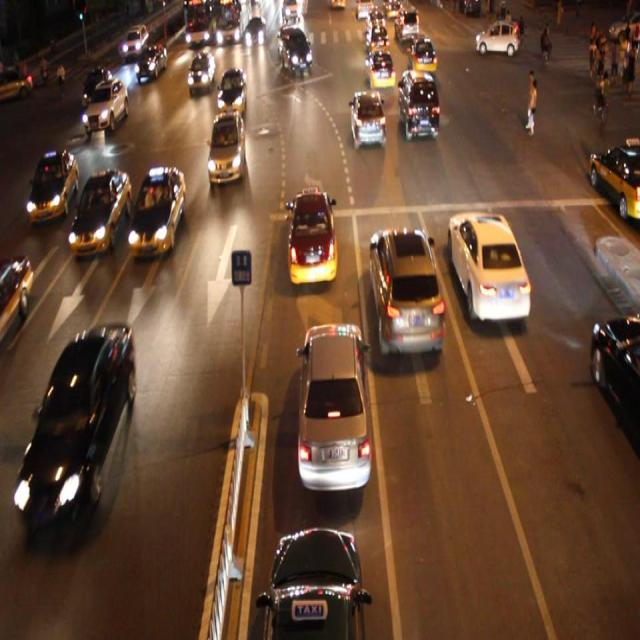car: (28, 325, 133, 530), (297, 320, 370, 491), (264, 526, 364, 640), (369, 226, 444, 354), (448, 211, 530, 322), (588, 312, 640, 436), (286, 188, 338, 284), (74, 168, 130, 255), (132, 166, 183, 258), (584, 140, 640, 218), (28, 150, 78, 219), (1, 253, 33, 346), (397, 67, 438, 139), (208, 112, 245, 183), (348, 88, 386, 149), (84, 82, 128, 132), (276, 29, 311, 74), (218, 68, 246, 116), (366, 48, 394, 89), (405, 36, 436, 72), (136, 46, 168, 80), (82, 67, 112, 102), (187, 52, 214, 90)
